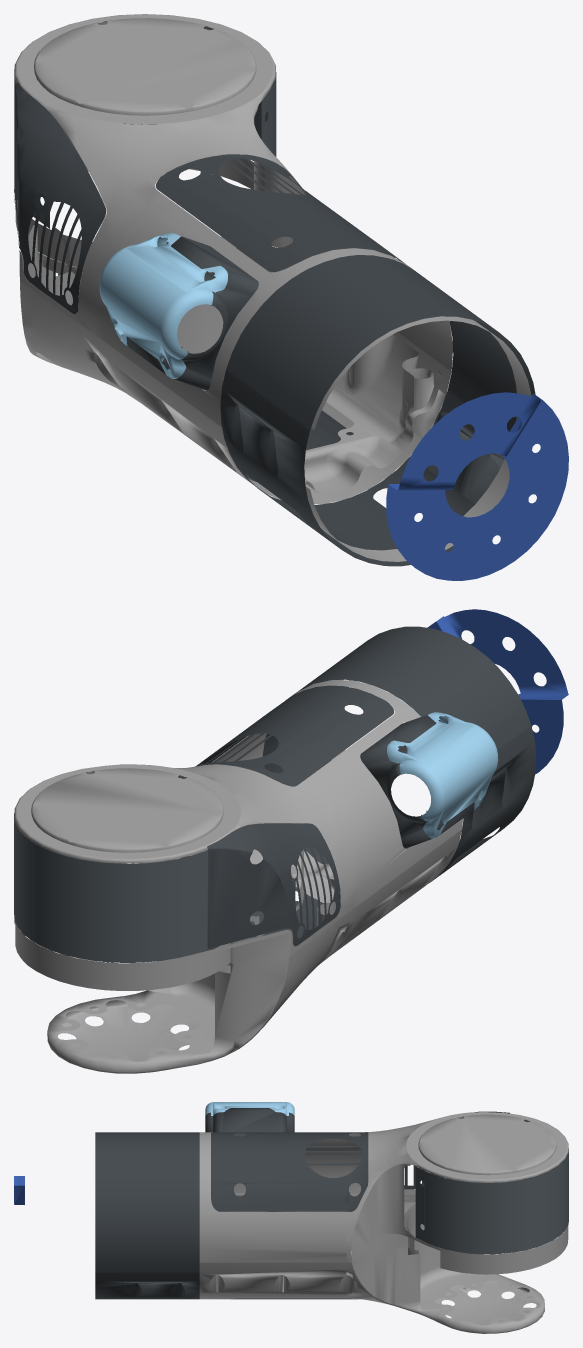
File: LEFT_SHOULDER_YAW_LINK.obj
3 renders of one model, top to bottom at view 1: azimuth 30°, elevation 25°; view 2: azimuth 150°, elevation 25°; view 3: azimuth 270°, elevation 25°, orthographic. The views are drawn at different scales.
Bounding box in the file's own units: 0.1193 × 0.0987 × 0.2891.
